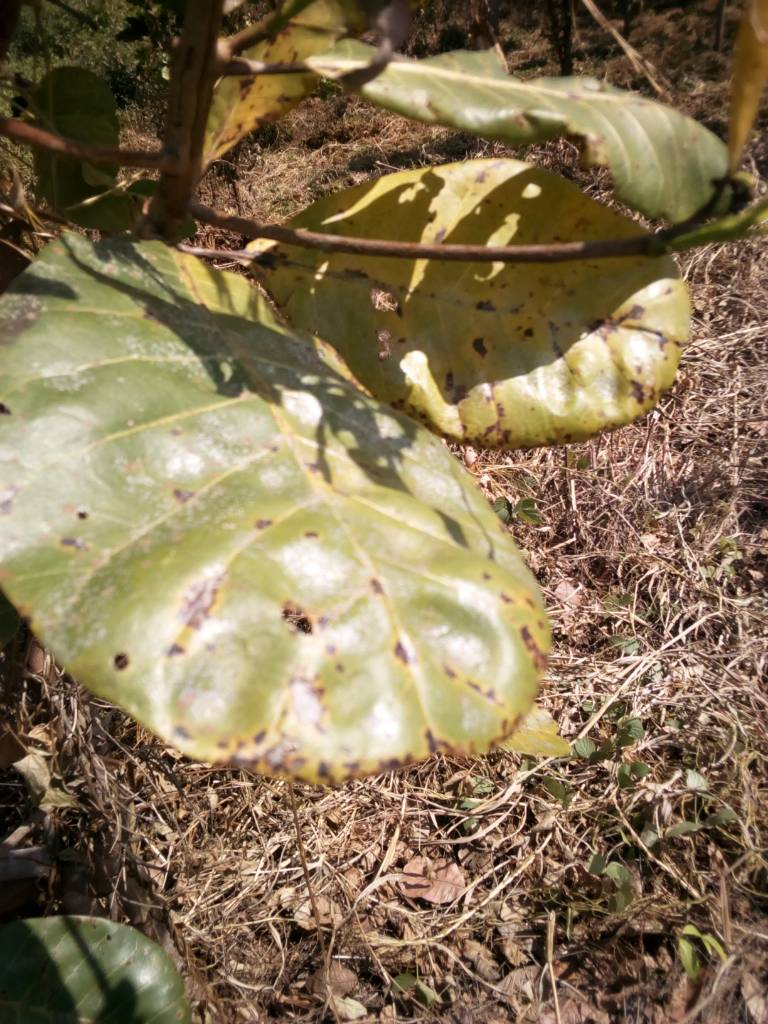Pestalotiose: (13, 358, 565, 780), (365, 166, 686, 452)
